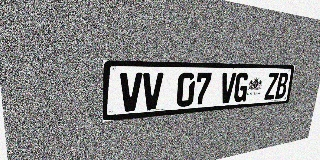0: (176, 73, 196, 107)
7: (193, 73, 212, 106)
B: (275, 73, 289, 99)
G: (233, 73, 249, 102)
V: (119, 72, 142, 112), (142, 73, 163, 110), (219, 73, 236, 104)
Z: (264, 73, 279, 100)
